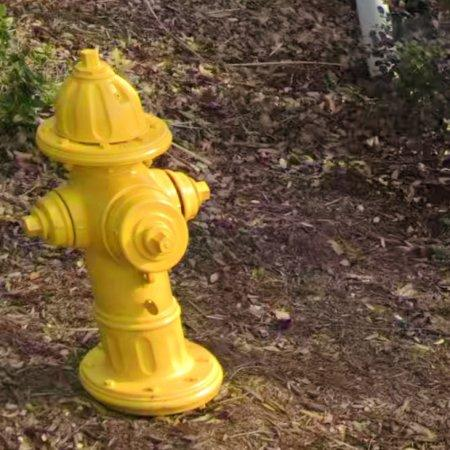a fire hydrant: (22, 49, 223, 417)
